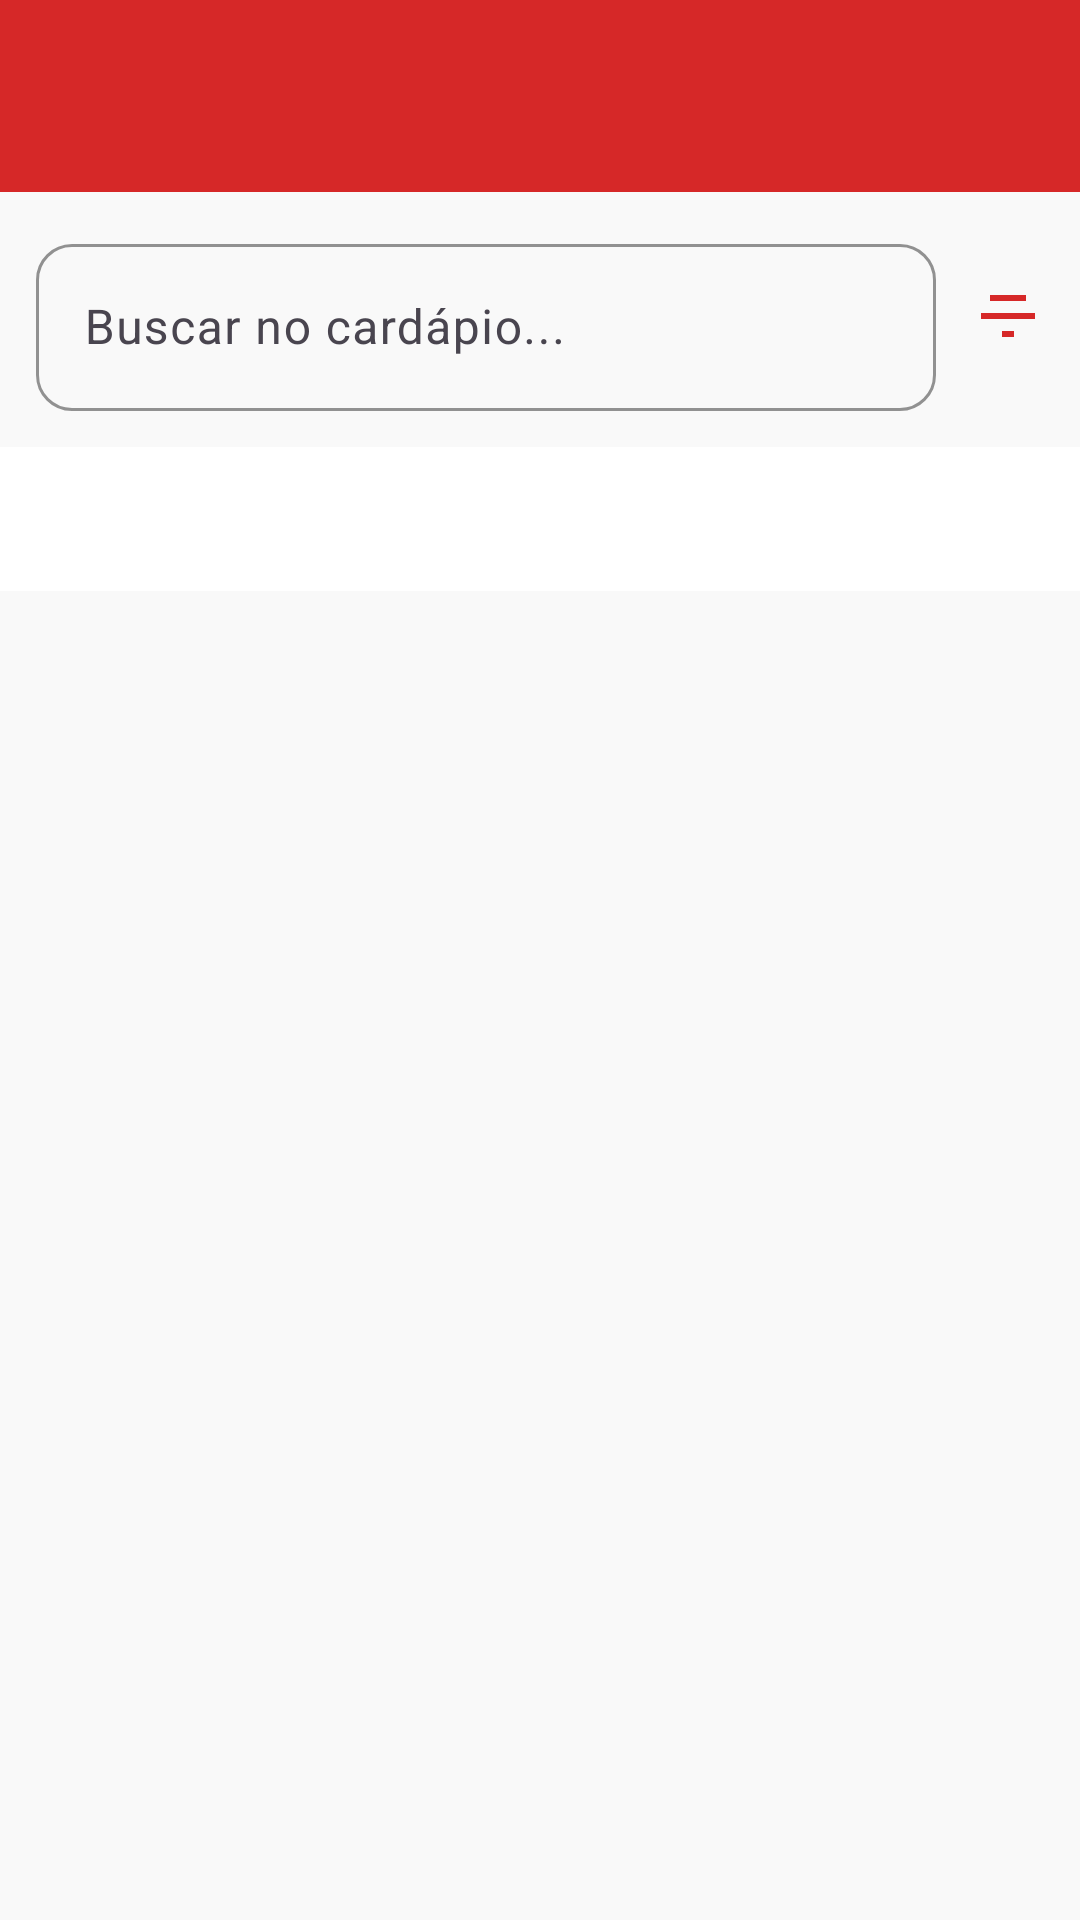

Screen size 1080w x 1920h. Icon name, then its box in pixels as Rect(x1, y1, x2, y2):
Filtro: Rect(981, 295, 1035, 337)
